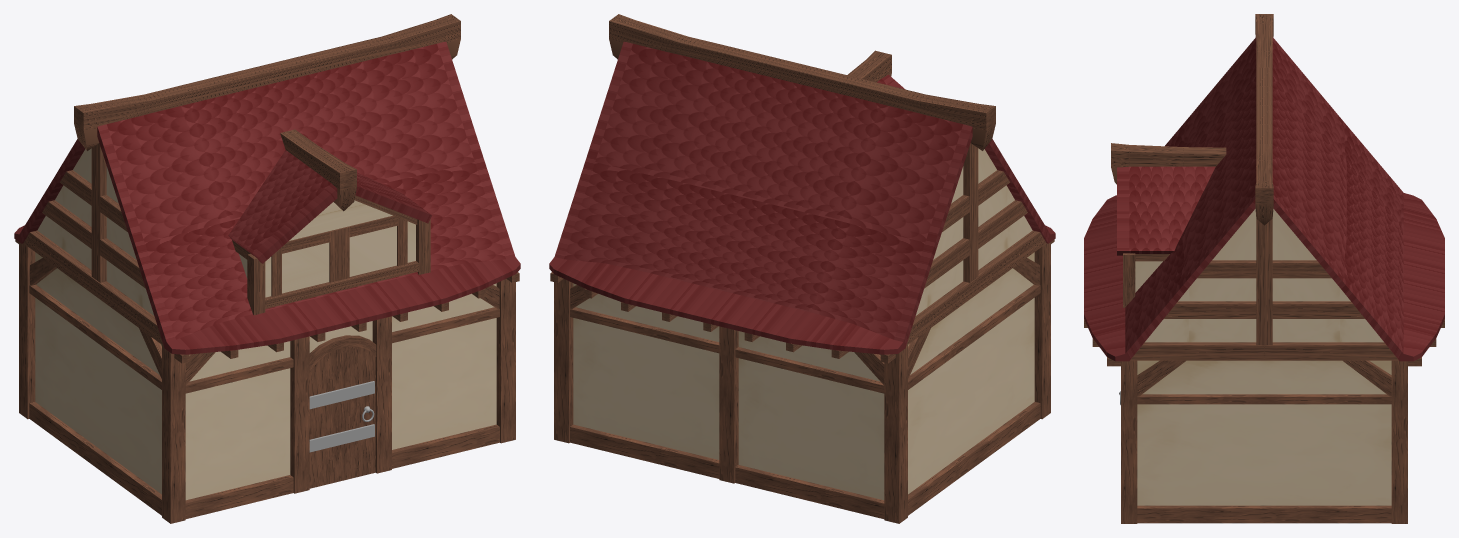
Rendered from 1_Story_House2_MESH_1.fbx.
3 views of the same model, side by side, from view 1: azimuth 30°, elevation 25°; view 2: azimuth 150°, elevation 25°; view 3: azimuth 270°, elevation 25° (orthographic). The views are drawn at different scales.
Parts seen in each view (by area): view 1: pCube2738; view 2: pCube2738; view 3: pCube2738.
Part boxes in pixels (x1,y1,x2,y2): pCube2738: (14,14,520,523); pCube2738: (549,14,1055,523); pCube2738: (1084,14,1444,523).
Bounding box in the file's own units: 914 × 840 × 800.
